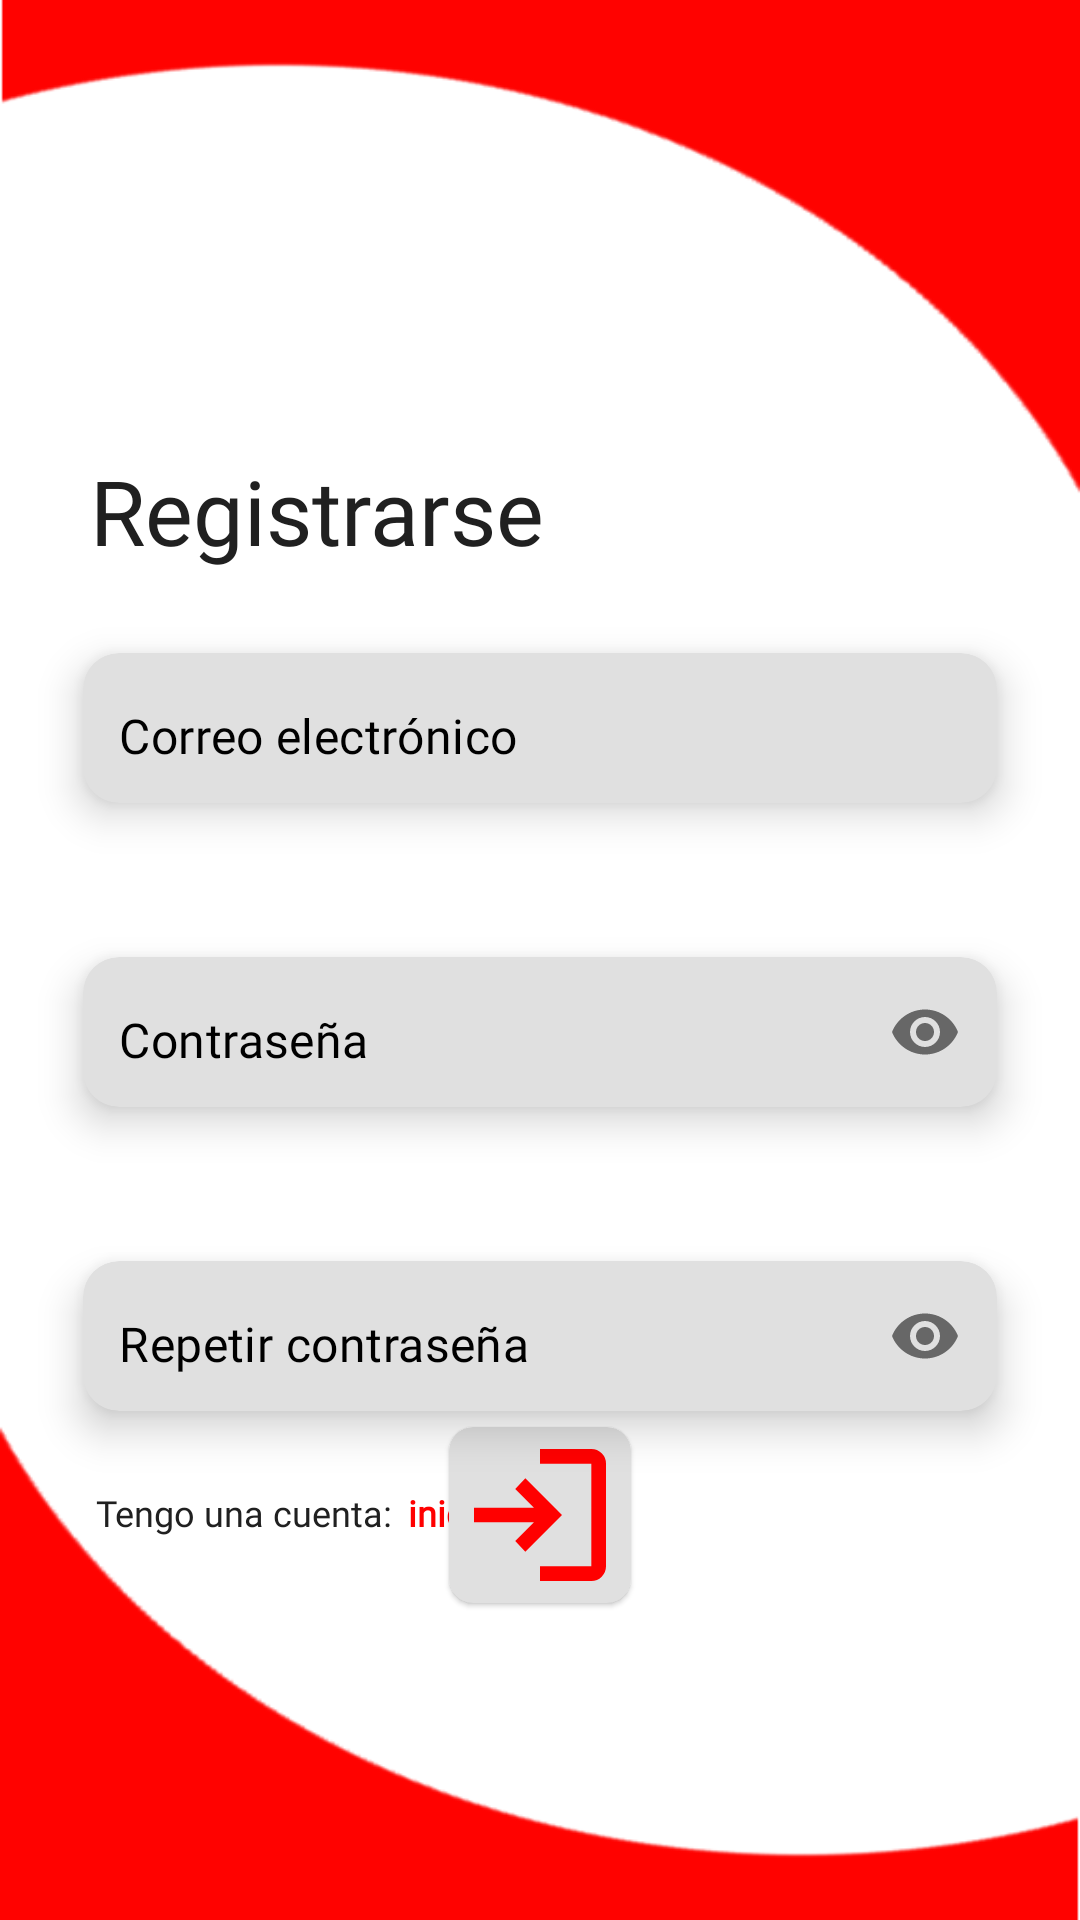

Named icons in this screenshot (1080px×1920px) and their centers, [x,y]:
login: [540,1515]
